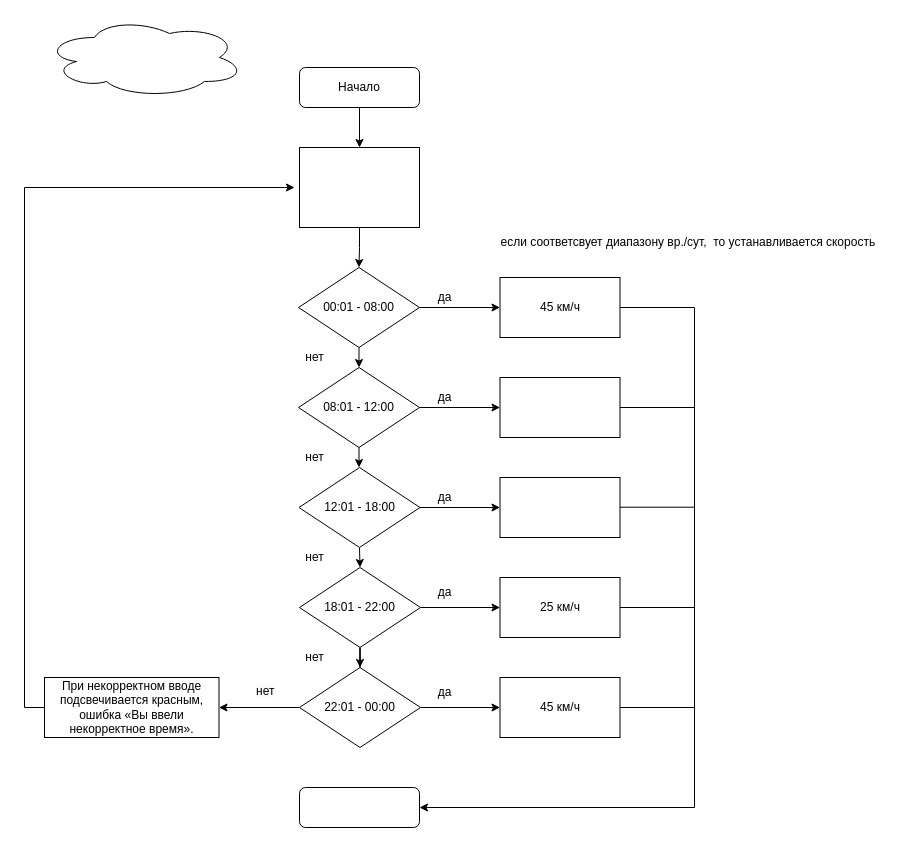
The diagram is 912 pixels wide and 845 high, and some of its shapes have lost their labels. The centre of each missing label's shape, as x and y in pixels:
"30 км/ч" goes at point 559,407.
"40 км/ч" goes at point 559,507.
"Ввести время начала поездки" goes at point 359,187.
"Конец" goes at point 359,807.
"Собственный автомобиль" goes at point 144,57.
